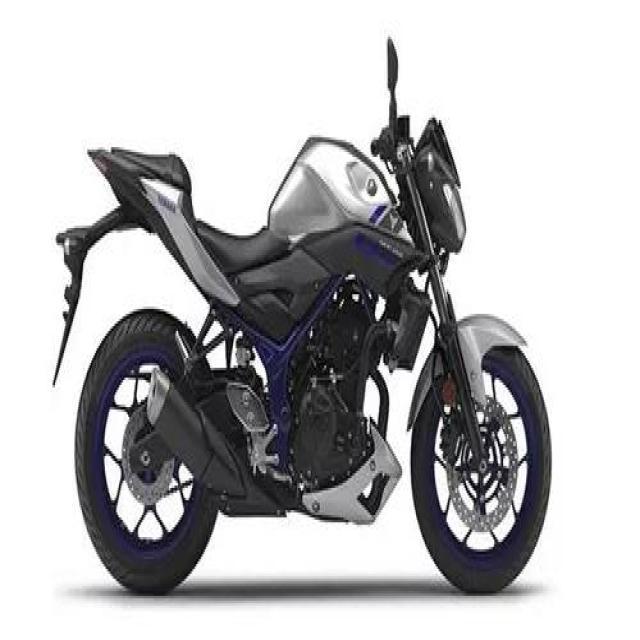Bike: (45, 36, 556, 611)
